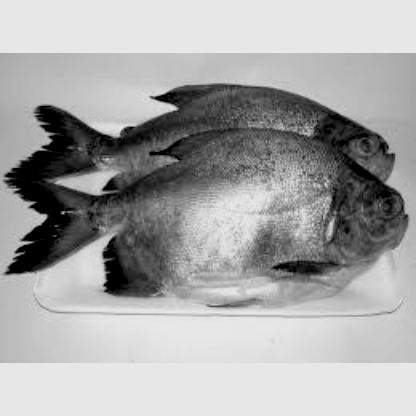ikan-pacu: (21, 132, 410, 304), (40, 82, 396, 180)
